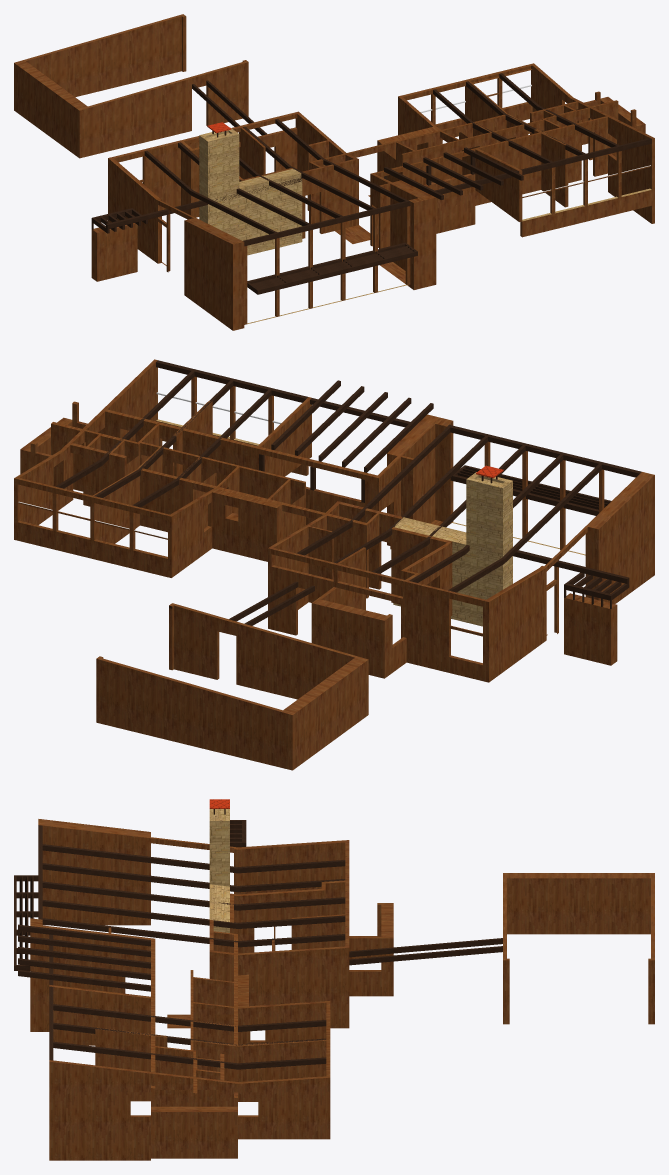
The model's file is muros.glb.
3 views of the same model, one above another, from view 1: azimuth 30°, elevation 25°; view 2: azimuth 150°, elevation 25°; view 3: azimuth 270°, elevation 25° (orthographic). The views are drawn at different scales.
Visible parts, largest first — view 1: 15282, 15283, Grupo#21 (×5), Grupo#12 (×2), Grupo#23 (×2), 15284, Grupo#28, Grupo#25, 15298, Grupo#16, Grupo#24; view 2: 15282, 15283, Grupo#21 (×5), Grupo#22 (×5), Grupo#12 (×2), Grupo#23 (×2), Grupo#25, 15298, Grupo#28, Grupo#16; view 3: 15282, Grupo#21 (×5), Grupo#22 (×5), Grupo#23 (×2), 15283, 15298, Grupo#25, 15284.
Part boxes in pixels (x1,y1,x2,y2): 15282: [14, 14, 654, 330]; 15283: [199, 122, 302, 255]; Grupo#21 (×5): [144, 118, 407, 234]; Grupo#12 (×2): [243, 138, 651, 246]; Grupo#23 (×2): [466, 73, 619, 155]; 15284: [247, 244, 417, 294]; Grupo#28: [106, 177, 302, 229]; Grupo#25: [433, 89, 552, 163]; 15298: [192, 80, 267, 135]; Grupo#16: [247, 242, 406, 283]; Grupo#24: [256, 249, 412, 289]; 15282: [14, 359, 654, 770]; 15283: [393, 465, 512, 626]; Grupo#21 (×5): [296, 427, 601, 592]; Grupo#22 (×5): [271, 380, 433, 472]; Grupo#12 (×2): [156, 360, 641, 477]; Grupo#23 (×2): [55, 371, 233, 497]; Grupo#25: [132, 389, 271, 507]; 15298: [229, 581, 314, 625]; Grupo#28: [513, 550, 629, 583]; Grupo#16: [450, 474, 598, 515]; 15282: [30, 819, 654, 1160]; Grupo#21 (×5): [42, 844, 345, 947]; Grupo#22 (×5): [18, 924, 150, 991]; Grupo#23 (×2): [53, 1022, 326, 1069]; 15283: [209, 799, 229, 932]; 15298: [349, 938, 502, 965]; Grupo#25: [53, 1004, 326, 1031]; 15284: [14, 875, 38, 970].
Size of the model in its own units: 25.3 by 6.17 by 23.6.
Materials: 860 (822 with a texture image).
